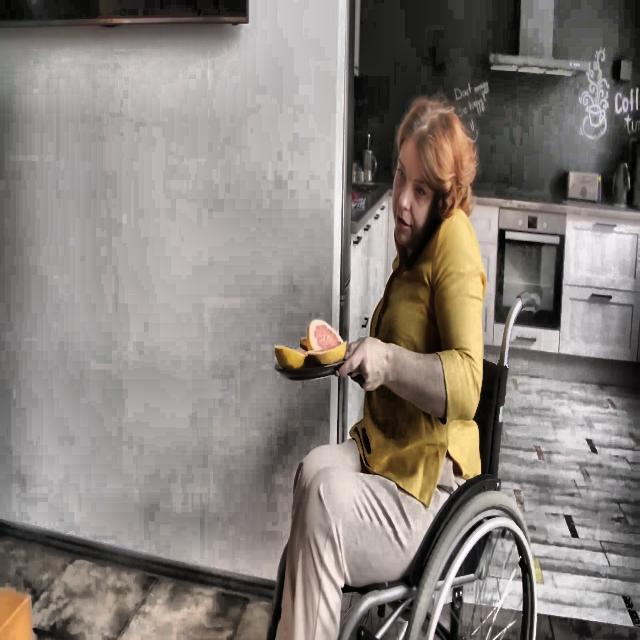Phone: (402, 213, 447, 273)
